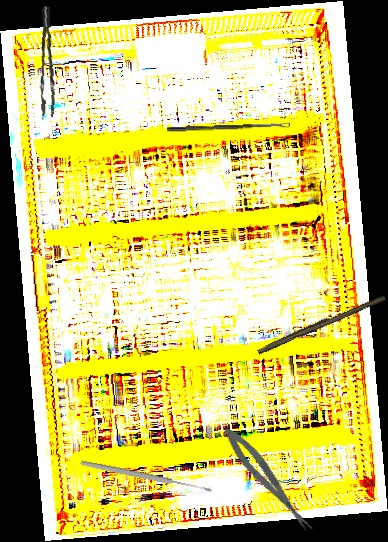Micro Scissor: (219, 422, 317, 539)
Scalpel Handle: (255, 291, 387, 357)
Surgical Spoon: (79, 459, 213, 494), (166, 122, 291, 133)
Tissue Forceps: (31, 6, 65, 117)
